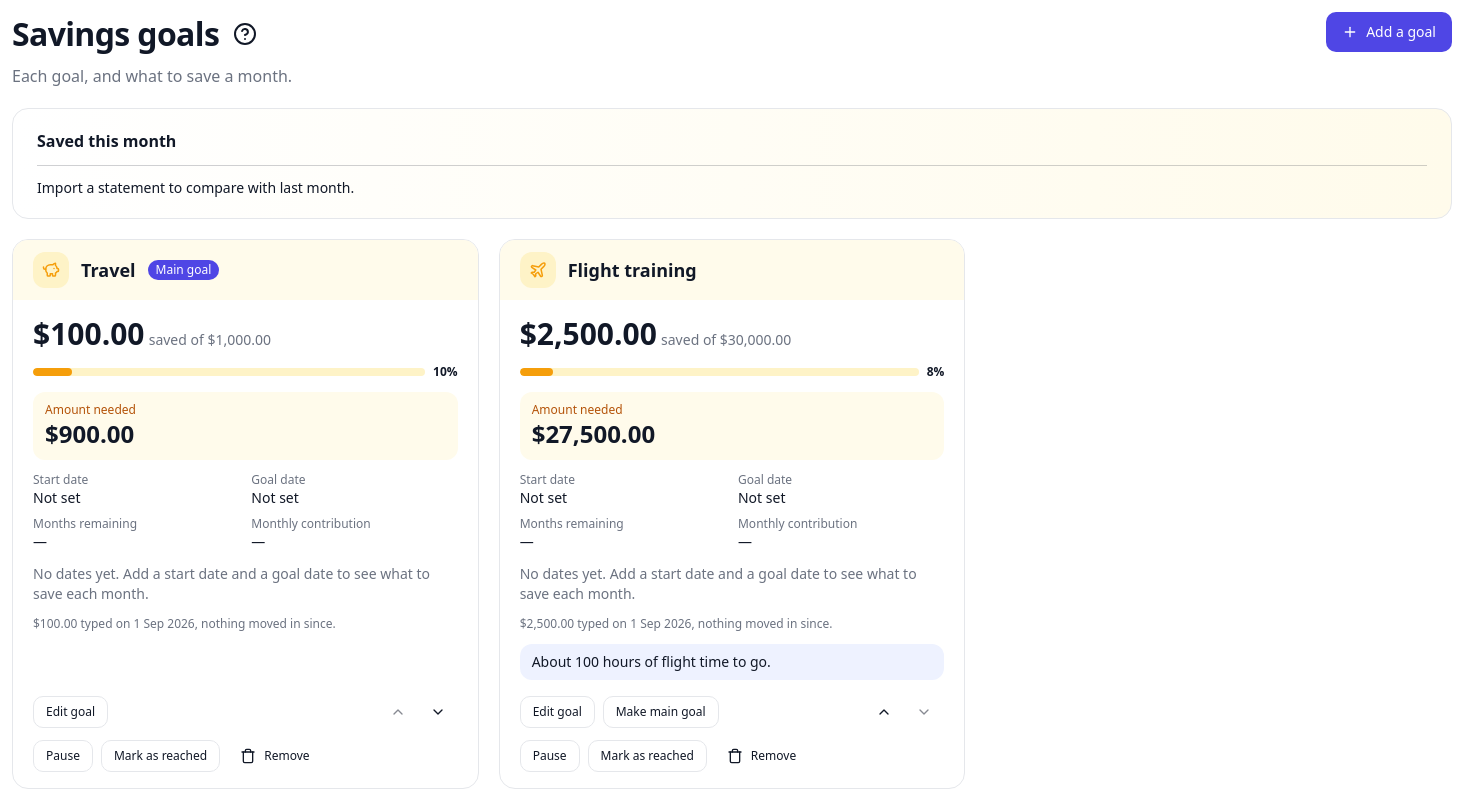
Scenario: Savings, pausing, finishing and resuming a goal (G1) › pauses the main goal: it folds away, and the next goal leads
The image size is (1464, 799).
What coordinates should you click on to do the following:
click the button "Pause" below "$900.00"
I would click on:
 (63, 756)
Its box is [33,740,93,772].
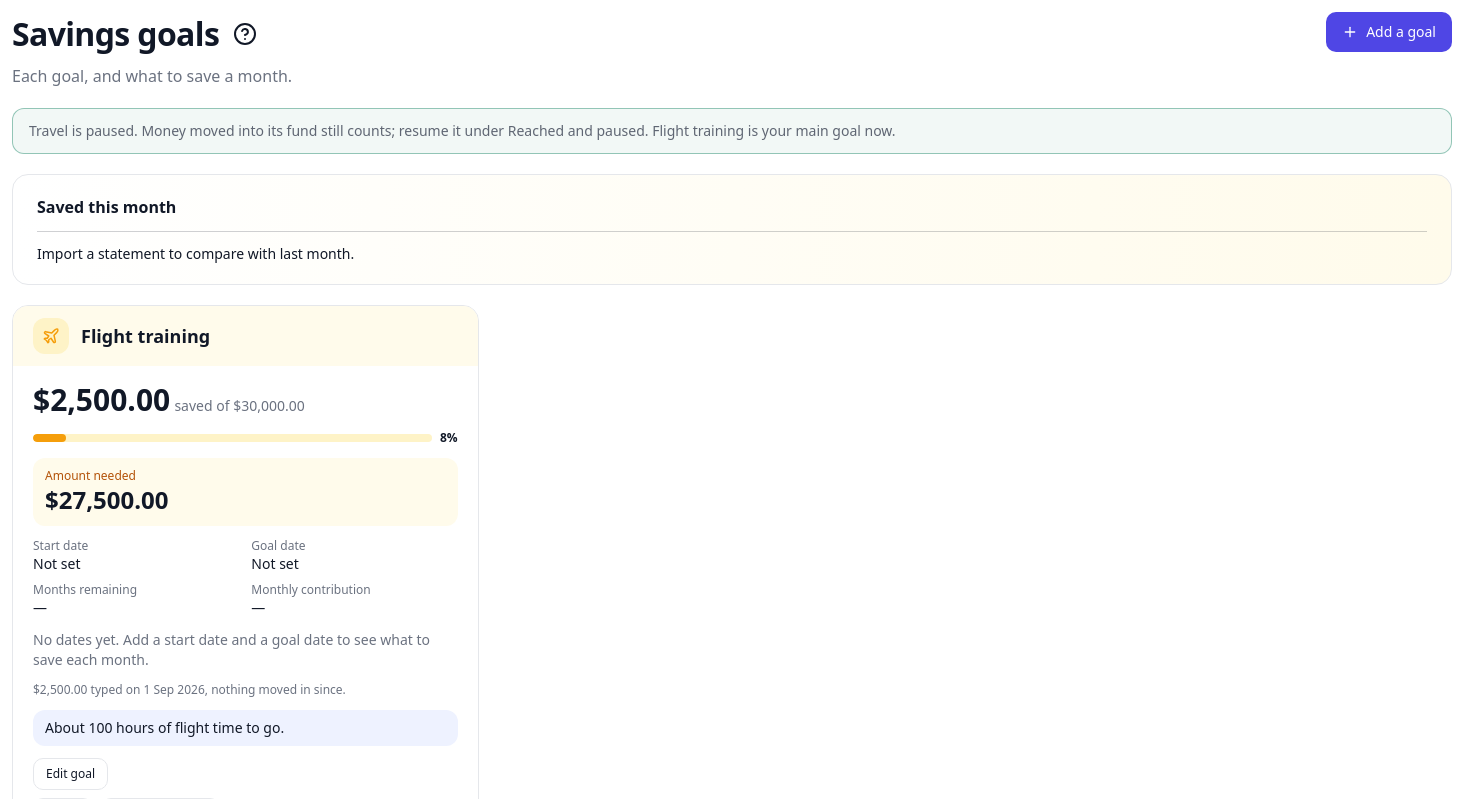
Check: the text "Main goal" is not shown
Check: the text "Travel is paused. Money moved into its fund still counts; resume it under Reached and paused. Flight training is your ma" is shown, box [29,121,896,140]
